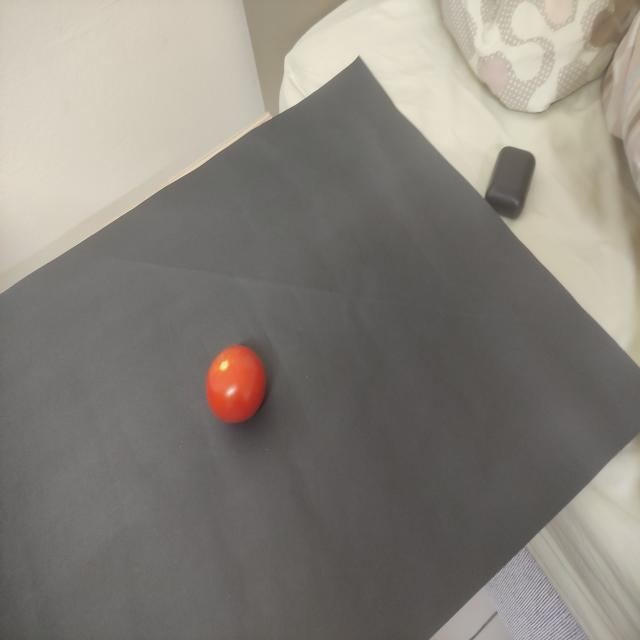kirmizi: (191, 330, 285, 433)
